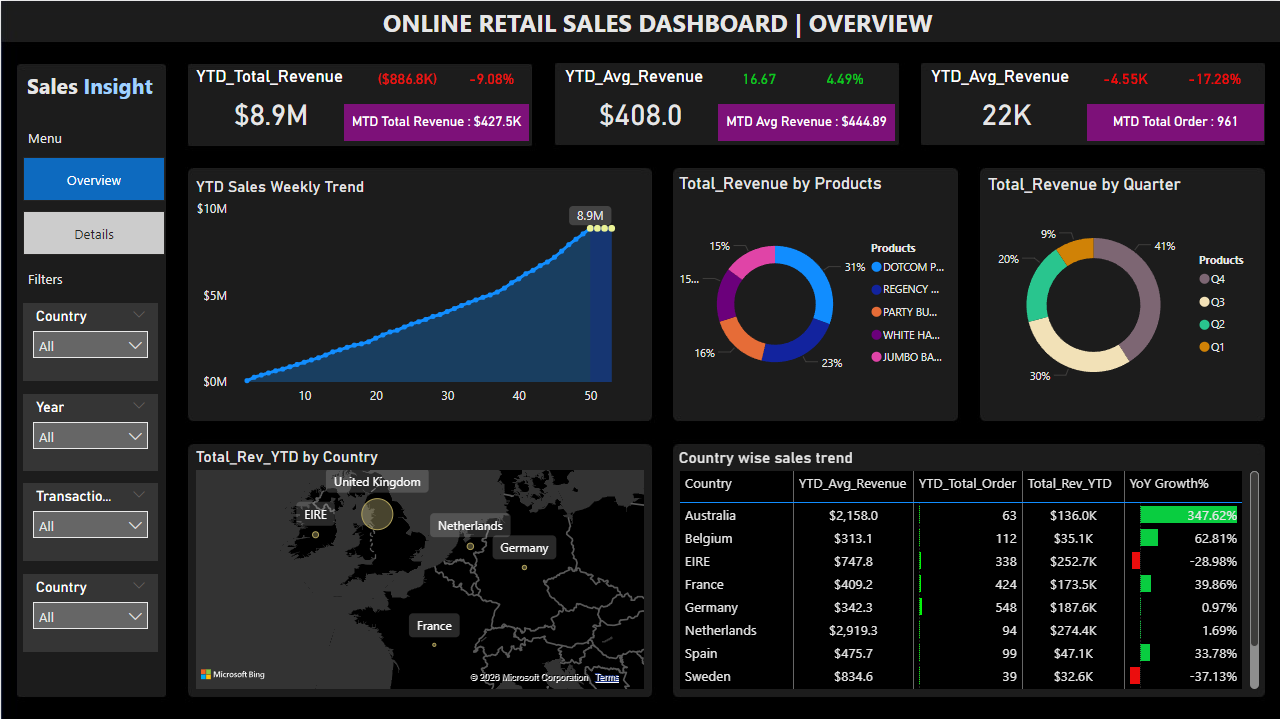

Layout of this report page (visuals, bound fields, positions):
{"tool":"powerbi","page":{"name":"Overview","canvas":[1280,720],"ordinal":0},"visuals":[{"type":"slicer","fields":{"Values":["Fact_Sales.Country"]},"box":[22.2,302.2,134.4,77.8],"z":0},{"type":"slicer","fields":{"Values":["Dim_Date.Year"]},"box":[22.2,393.3,134.4,76.7],"z":1000},{"type":"card","title":"YTD_Total_Revenue","fields":{"Values":["Fact_Sales.Total_Revenue_YTD"]},"box":[190,65,160,75],"z":2000},{"type":"card","title":"Total_Revenue_MTD","fields":{"Values":["Fact_Sales.MTD KPI"]},"box":[343,103,185,37],"z":3000},{"type":"card","title":"Total_Revenue_YTD","fields":{"Values":["Fact_Sales.Revenue_difference"]},"box":[368,65,76,26],"z":4000},{"type":"card","title":"Total_Revenue_YTD","fields":{"Values":["Fact_Sales.YoY Growth%"]},"box":[452,65,76,26],"z":5000},{"type":"card","title":"YTD_Avg_Revenue","fields":{"Values":["Fact_Sales.YTD_Avg_Revenue"]},"box":[559,65,161,75],"z":6000},{"type":"card","title":"Total_Revenue_YTD","fields":{"Values":["Fact_Sales.Avg_Diff_Revenue"]},"box":[720,65,76,26],"z":7000},{"type":"card","title":"Total_Revenue_YTD","fields":{"Values":["Fact_Sales.YoY_avg_Rev_Growth"]},"box":[806,65,76,26],"z":8000},{"type":"card","title":"Total_Revenue_MTD","fields":{"Values":["Fact_Sales.MTD_Avg_KPI"]},"box":[717,103,177,37],"z":9000},{"type":"card","title":"YTD_Avg_Revenue","fields":{"Values":["Fact_Sales.YTD_Total_Order"]},"box":[925,65,161,75],"z":10000},{"type":"card","title":"Total_Revenue_YTD","fields":{"Values":["Fact_Sales.Total_order_difference"]},"box":[1086,65,76,26],"z":11000},{"type":"card","title":"Total_Revenue_YTD","fields":{"Values":["Fact_Sales.YoY_Total_order_growth"]},"box":[1175,65,76,26],"z":12000},{"type":"card","title":"Total_Revenue_MTD","fields":{"Values":["Fact_Sales.MTD_Total_Order_KPI"]},"box":[1086,103,177,37],"z":13000},{"type":"areaChart","title":"YTD Sales Weekly Trend","fields":{"Y":["Fact_Sales.Total_Revenue_YTD","Fact_Sales.Max point on area chart"],"Category":["Dim_Date.Week_number"]},"box":[190,175.6,450,237.8],"z":14000},{"type":"donutChart","title":"Total_Revenue by Products","fields":{"Category":["Fact_Sales.Description"],"Y":["Fact_Sales.Total_Revenue_YTD"]},"box":[673.1,172.3,284.6,243.1],"z":15000},{"type":"donutChart","title":"Total_Revenue by Quarter","fields":{"Category":["Dim_Date.Quarter"],"Y":["Fact_Sales.Total_Revenue_YTD"]},"box":[981.5,173.1,284.6,243.1],"z":16000},{"type":"map","fields":{"Category":["Fact_Sales.Country"],"Size":["Fact_Sales.Total_Revenue_YTD"]},"box":[190,446.2,458.1,246.9],"z":16001},{"type":"tableEx","title":"Country wise sales trend","fields":{"Values":["Fact_Sales.Country","Fact_Sales.YTD_Avg_Revenue","Fact_Sales.YTD_Total_Order","Fact_Sales.Total_Revenue_YTD","Fact_Sales.YoY Growth%"]},"box":[673.3,446.7,589.2,246.7],"z":16002},{"type":"textbox","box":[377,0,568,49],"z":16004},{"type":"slicer","fields":{"Values":["Fact_Sales.Transaction_type"]},"box":[22.2,482.2,134.4,77.8],"z":16005},{"type":"slicer","fields":{"Values":["Fact_Sales.Country"]},"box":[22.2,573.3,134.4,77.8],"z":16006},{"type":"textbox","box":[22.2,264.4,134.4,28.9],"z":16007},{"type":"textbox","box":[14,123,60,33],"z":16008},{"type":"textbox","box":[14,65,150,42],"z":16009},{"type":"pageNavigator","box":[22,156,142,98],"z":16010}]}

Visuals, with their boxes in screenshot pixels (x1, y1, x2, y2), scaled from the page's 1280x720 canvas onto the 1280x719 screenshot:
slicer - Fact_Sales.Country: 22:302:157:379
slicer - Dim_Date.Year: 22:393:157:469
"YTD_Total_Revenue" card: 190:65:350:140
"Total_Revenue_MTD" card: 343:103:528:140
"Total_Revenue_YTD" card: 368:65:444:91
"Total_Revenue_YTD" card: 452:65:528:91
"YTD_Avg_Revenue" card: 559:65:720:140
"Total_Revenue_YTD" card: 720:65:796:91
"Total_Revenue_YTD" card: 806:65:882:91
"Total_Revenue_MTD" card: 717:103:894:140
"YTD_Avg_Revenue" card: 925:65:1086:140
"Total_Revenue_YTD" card: 1086:65:1162:91
"Total_Revenue_YTD" card: 1175:65:1251:91
"Total_Revenue_MTD" card: 1086:103:1263:140
"YTD Sales Weekly Trend" areaChart: 190:175:640:413
"Total_Revenue by Products" donutChart: 673:172:958:415
"Total_Revenue by Quarter" donutChart: 982:173:1266:416
map - Fact_Sales.Country x Fact_Sales.Total_Revenue_YTD: 190:446:648:692
"Country wise sales trend" tableEx: 673:446:1262:692
textbox: 377:0:945:49
slicer - Fact_Sales.Transaction_type: 22:482:157:559
slicer - Fact_Sales.Country: 22:573:157:650
textbox: 22:264:157:293
textbox: 14:123:74:156
textbox: 14:65:164:107
pageNavigator: 22:156:164:254
